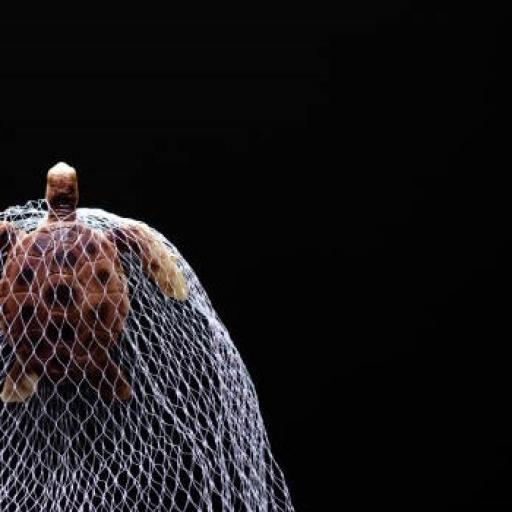net: (0, 266, 294, 511)
